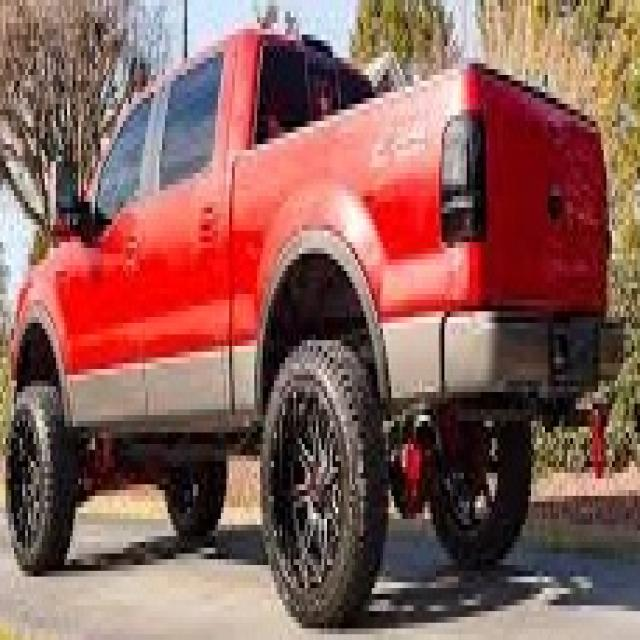red: (9, 37, 598, 543)
